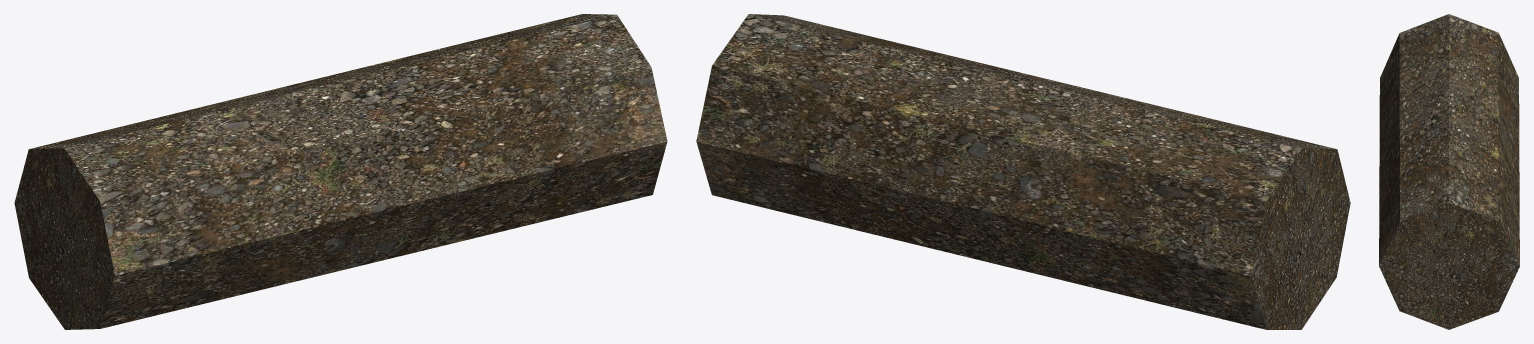
Rendered from log.glb.
3 views of the same model, side by side, from view 1: azimuth 30°, elevation 25°; view 2: azimuth 150°, elevation 25°; view 3: azimuth 270°, elevation 25° (orthographic). The views are drawn at different scales.
Parts seen in each view (by area): view 1: log; view 2: log; view 3: log.
Boxes of the visible parts, x1=… form: log: x1=14, y1=14, x2=667, y2=329; log: x1=696, y1=14, x2=1350, y2=329; log: x1=1379, y1=14, x2=1519, y2=329.
Bounding box in the file's own units: 1.4 × 0.4406 × 0.4421.
1 material, 1 textured.
